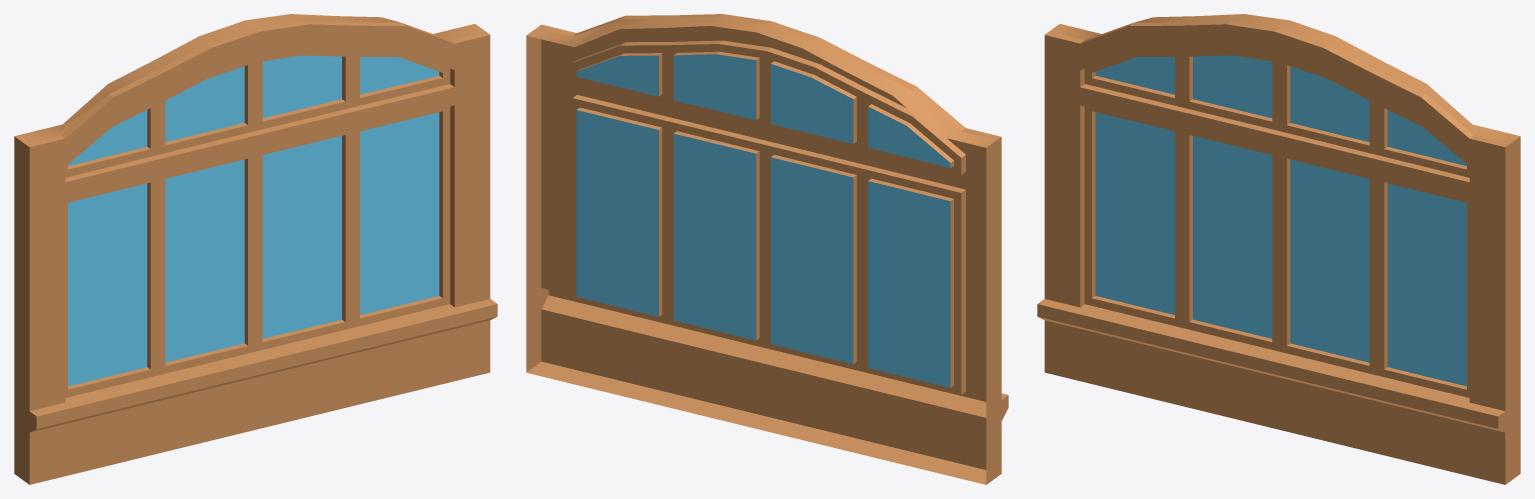
Rendered from DoorVitrine2Curve.fbx.
3 renders of one model, left to right at view 1: azimuth 30°, elevation 25°; view 2: azimuth 150°, elevation 25°; view 3: azimuth 330°, elevation 25°, orthographic.
Visible parts, largest first — view 1: DoorVitrine2Curve; view 2: DoorVitrine2Curve; view 3: DoorVitrine2Curve.
Part boxes in pixels (<box>): DoorVitrine2Curve: <box>14,14,497,484</box>; DoorVitrine2Curve: <box>526,14,1008,484</box>; DoorVitrine2Curve: <box>1037,14,1520,484</box>.
Bounding box in the file's own units: 5 × 0.4212 × 4.12.
